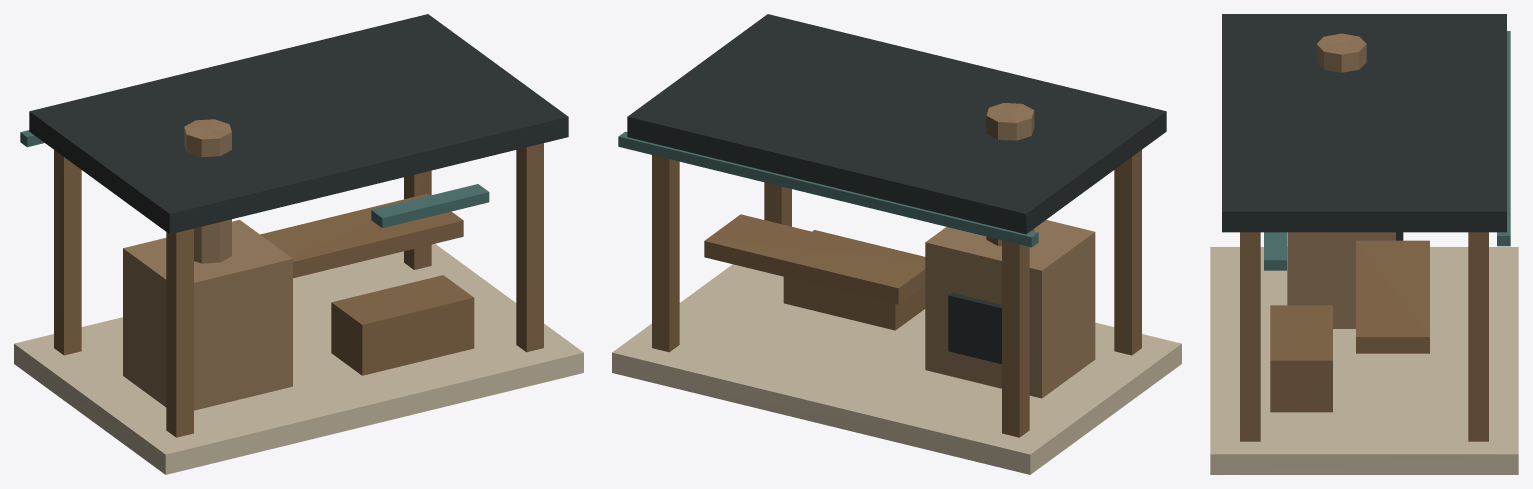
Rendered from farm-to-table-restaurant.source.glb.
The picture shows the model from 3 angles, left to right: view 1: azimuth 30°, elevation 25°; view 2: azimuth 150°, elevation 25°; view 3: azimuth 270°, elevation 25°; orthographic projection.
Visible parts, largest first — view 1: cookhouse-low-gable-roof-mesh, cookhouse-concrete-foundation-mesh, cookhouse-brick-hearth-mesh, cookhouse-wood-rack-mesh, cookhouse-prep-counter-mesh, cookhouse-cookhouse-post--1.8-1-mesh, cookhouse-cookhouse-post-1.8-1-mesh, cookhouse-cookhouse-post--1.8--1-mesh, cookhouse-hearth-chimney-mesh, cookhouse-empty-wall-shelf-mesh, cookhouse-cookhouse-post-1.8--1-mesh; view 2: cookhouse-low-gable-roof-mesh, cookhouse-concrete-foundation-mesh, cookhouse-brick-hearth-mesh, cookhouse-prep-counter-mesh, cookhouse-cookhouse-post--1.8-1-mesh, cookhouse-cookhouse-post--1.8--1-mesh, cookhouse-cookhouse-post-1.8--1-mesh, cookhouse-teal-fascia-mesh, cookhouse-wood-rack-mesh, cookhouse-hearth-opening-mesh, cookhouse-hearth-chimney-mesh, cookhouse-cookhouse-post-1.8-1-mesh; view 3: cookhouse-low-gable-roof-mesh, cookhouse-concrete-foundation-mesh, cookhouse-prep-counter-mesh, cookhouse-wood-rack-mesh, cookhouse-brick-hearth-mesh, cookhouse-cookhouse-post-1.8--1-mesh, cookhouse-cookhouse-post-1.8-1-mesh, cookhouse-hearth-chimney-mesh, cookhouse-teal-fascia-mesh, cookhouse-empty-wall-shelf-mesh.
Boxes of the visible parts, x1,y1,x2,y2 form: cookhouse-low-gable-roof-mesh: (29,14,568,234); cookhouse-concrete-foundation-mesh: (14,244,583,474); cookhouse-brick-hearth-mesh: (123,220,292,410); cookhouse-wood-rack-mesh: (331,275,474,375); cookhouse-prep-counter-mesh: (260,194,463,278); cookhouse-cookhouse-post--1.8-1-mesh: (166,228,193,437); cookhouse-cookhouse-post-1.8-1-mesh: (516,143,543,352); cookhouse-cookhouse-post--1.8--1-mesh: (54,150,81,355); cookhouse-hearth-chimney-mesh: (184,119,231,263); cookhouse-empty-wall-shelf-mesh: (371,184,489,228); cookhouse-cookhouse-post-1.8--1-mesh: (404,170,431,269); cookhouse-low-gable-roof-mesh: (627,14,1166,234); cookhouse-concrete-foundation-mesh: (612,264,1181,474); cookhouse-brick-hearth-mesh: (925,220,1095,398); cookhouse-prep-counter-mesh: (704,214,925,304); cookhouse-cookhouse-post--1.8-1-mesh: (1114,150,1141,355); cookhouse-cookhouse-post--1.8--1-mesh: (1002,240,1029,437); cookhouse-cookhouse-post-1.8--1-mesh: (652,155,679,352); cookhouse-teal-fascia-mesh: (618,131,1038,247); cookhouse-wood-rack-mesh: (783,230,925,330); cookhouse-hearth-opening-mesh: (948,292,1001,364); cookhouse-hearth-chimney-mesh: (986,103,1034,246); cookhouse-cookhouse-post-1.8-1-mesh: (764,182,791,226); cookhouse-low-gable-roof-mesh: (1222,14,1506,232); cookhouse-concrete-foundation-mesh: (1210,247,1518,474); cookhouse-prep-counter-mesh: (1356,240,1429,353); cookhouse-wood-rack-mesh: (1270,305,1332,412); cookhouse-brick-hearth-mesh: (1287,232,1395,328); cookhouse-cookhouse-post-1.8--1-mesh: (1468,232,1488,441); cookhouse-cookhouse-post-1.8-1-mesh: (1240,232,1260,441); cookhouse-hearth-chimney-mesh: (1316,33,1366,72); cookhouse-teal-fascia-mesh: (1497,31,1510,246); cookhouse-empty-wall-shelf-mesh: (1264,232,1286,270).
Size of the model in its own units: 4.3 by 2.68 by 2.7.
